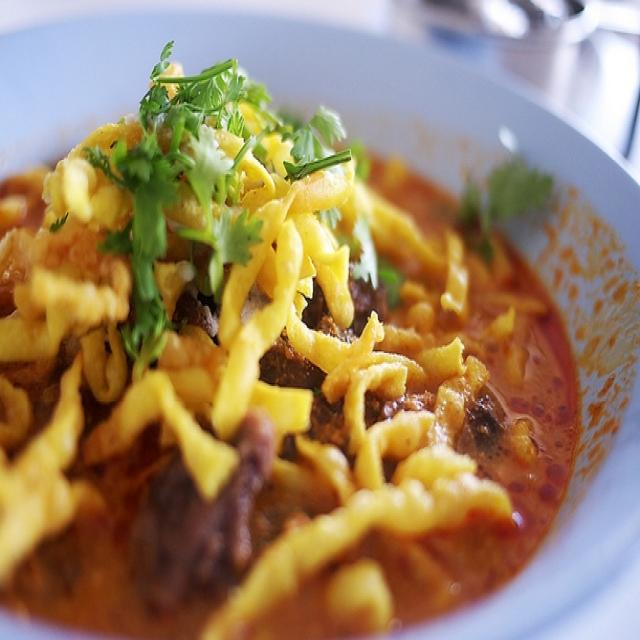面条主食: (9, 42, 594, 629)
